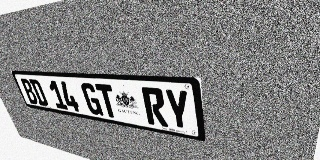1: (46, 80, 68, 110)
4: (58, 81, 80, 112)
B: (19, 78, 39, 105)
D: (29, 79, 49, 107)
G: (80, 83, 104, 116)
R: (141, 87, 168, 127)
T: (95, 84, 120, 119)
Y: (163, 89, 192, 131)
